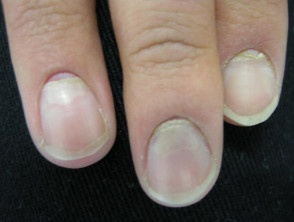SJS-TEN: (132, 104, 230, 214), (27, 61, 114, 168), (215, 32, 290, 144)
